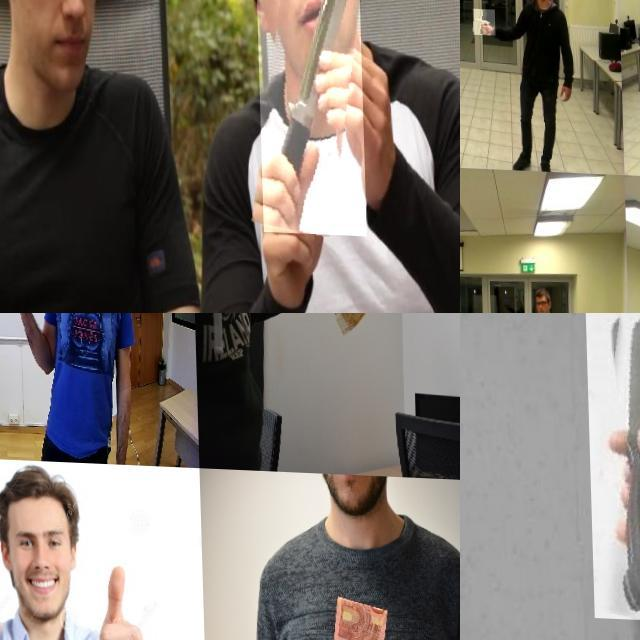-: (253, 0, 364, 232), (584, 313, 640, 618)
gun-knife-thesis - v11 Yolov5 augmented: (472, 7, 494, 34), (481, 307, 504, 313)
